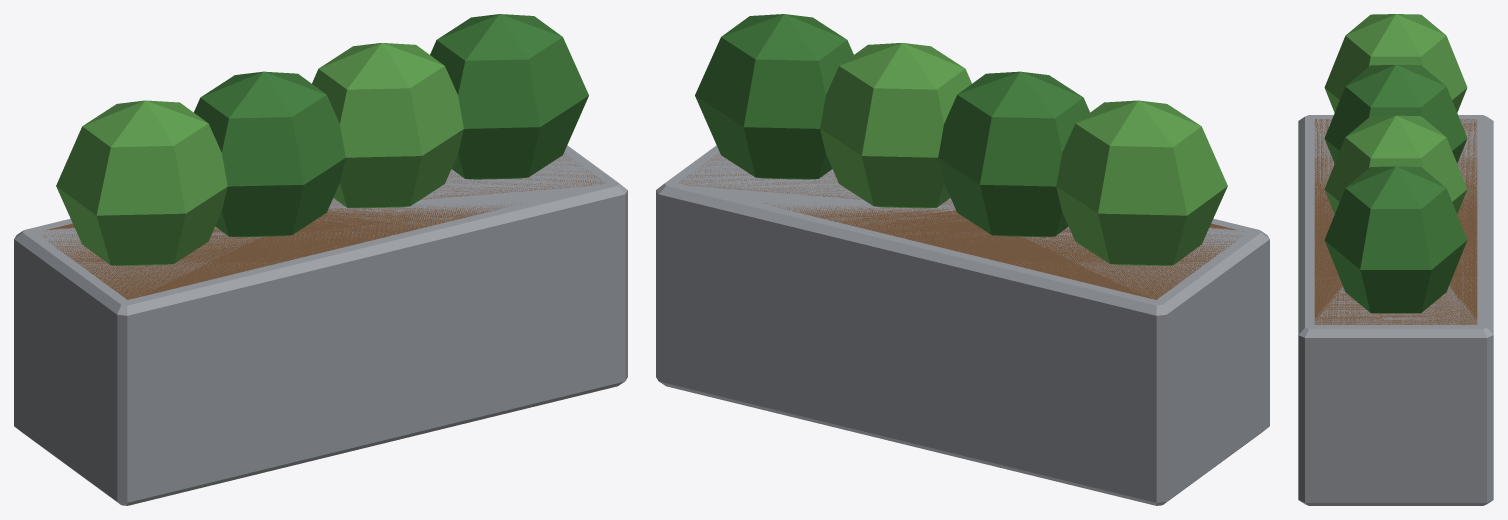
The model's file is planter_box.glb.
3 renders of one model, left to right at view 1: azimuth 30°, elevation 25°; view 2: azimuth 150°, elevation 25°; view 3: azimuth 270°, elevation 25°, orthographic. The views are drawn at different scales.
Visible parts, largest first — view 1: planter_box; view 2: planter_box; view 3: planter_box.
Part boxes in pixels (x1,y1,x2,y2): planter_box: (14,14,627,505); planter_box: (656,14,1269,505); planter_box: (1298,14,1493,505).
Bounding box in the file's own units: 1.6 × 1.05 × 0.6.
